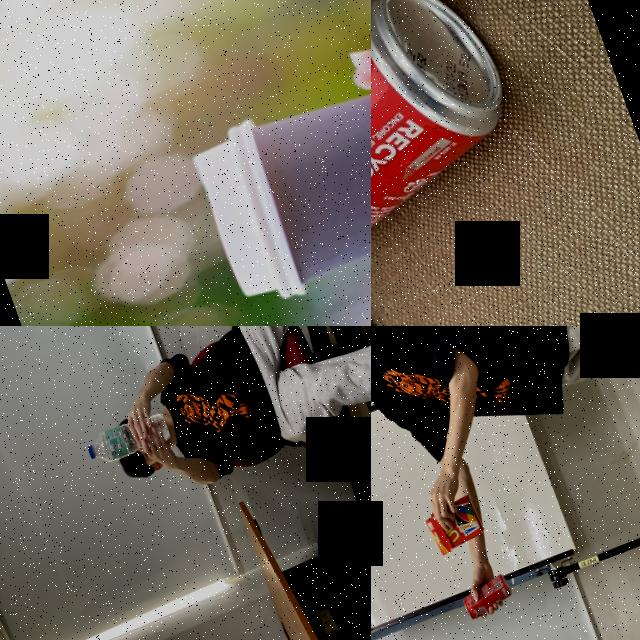bottle: (82, 408, 174, 468)
can: (371, 0, 554, 326), (458, 569, 518, 622)
cup: (185, 15, 371, 313)
